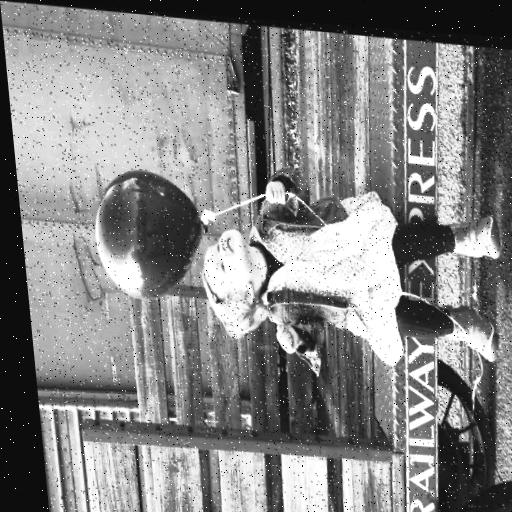balloon: (85, 157, 210, 308)
